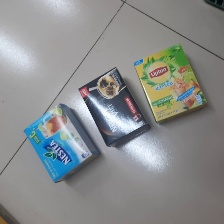CF Viet: (76, 67, 151, 152)
LipTon: (134, 43, 209, 123)
Nestea: (24, 103, 101, 183)
